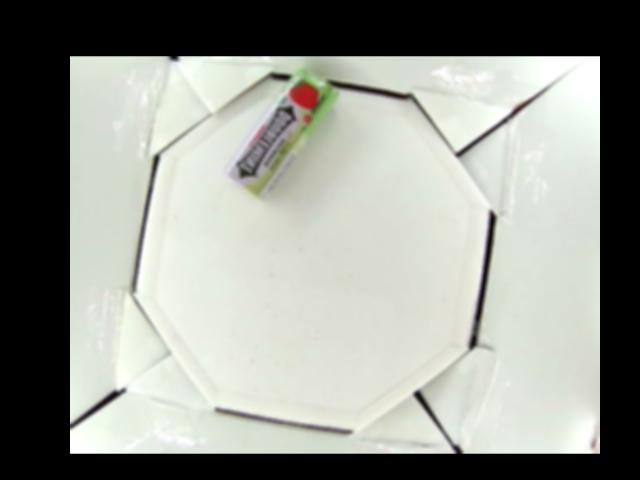Bottle: (224, 67, 335, 199)
